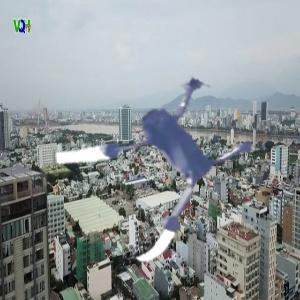drone: (47, 44, 271, 268)
